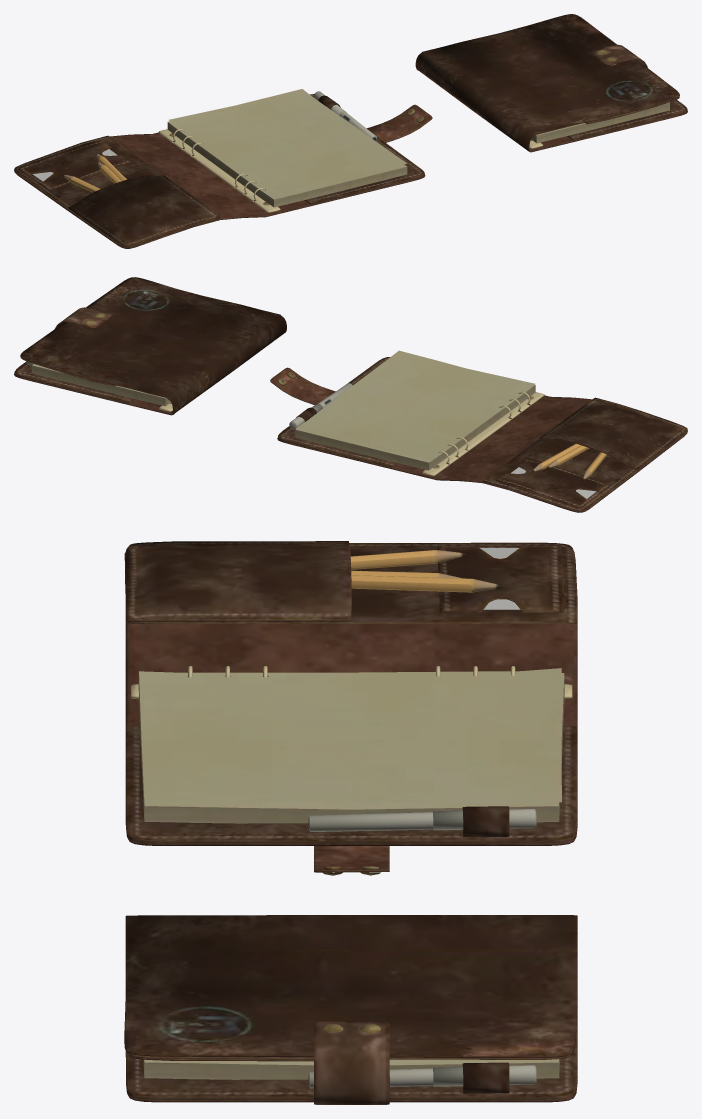
File: binder_notebook.glb
The picture shows the model from 3 angles, top to bottom: view 1: azimuth 30°, elevation 25°; view 2: azimuth 150°, elevation 25°; view 3: azimuth 270°, elevation 25°; orthographic projection. The views are drawn at different scales.
Visible parts, largest first — view 1: Cube.003, Cube.005; view 2: Cube.003, Cube.005; view 3: Cube.003, Cube.005.
Boxes of the visible parts, left/top/right/bottom form: Cube.003: left=14, top=89, right=432, bottom=248; Cube.005: left=415, top=14, right=687, bottom=152; Cube.003: left=270, top=350, right=687, bottom=512; Cube.005: left=14, top=277, right=286, bottom=415; Cube.003: left=124, top=541, right=577, bottom=875; Cube.005: left=124, top=915, right=577, bottom=1104.
Size of the model in its own units: 0.5838 by 0.0252 by 0.1999.
Materials: 1 (1 with a texture image).
